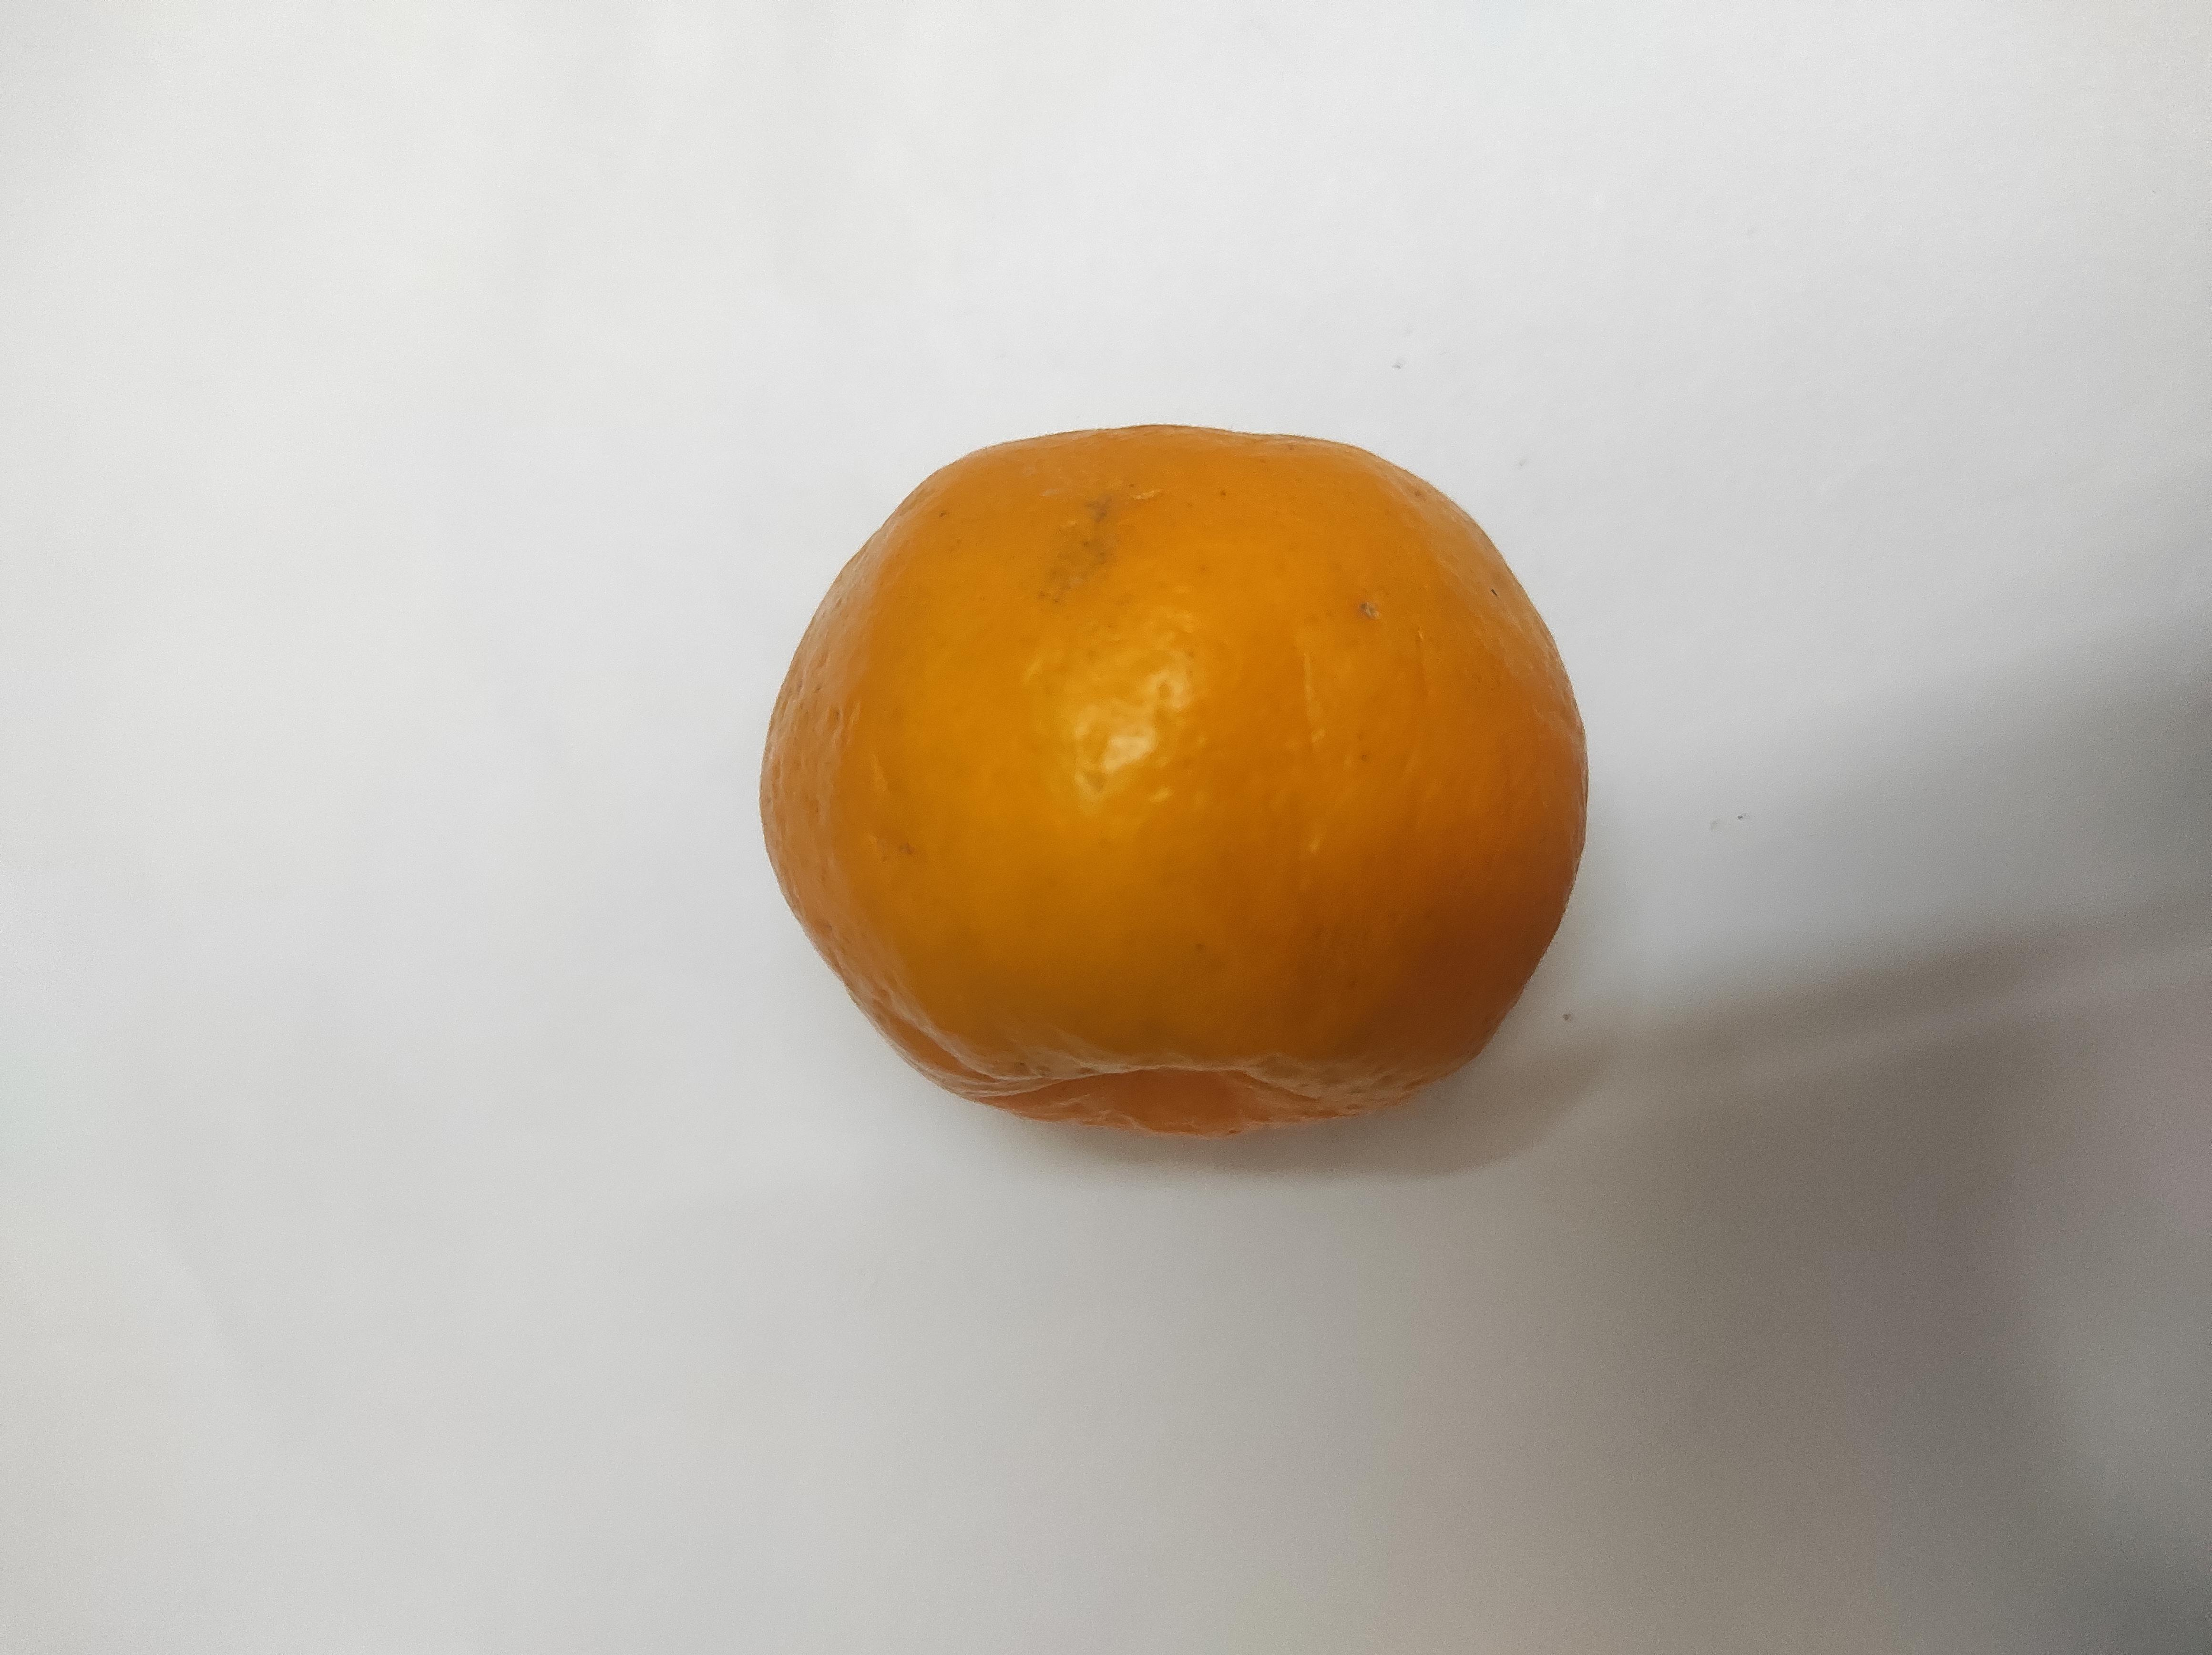Ripe: (694, 560, 1657, 1180)
